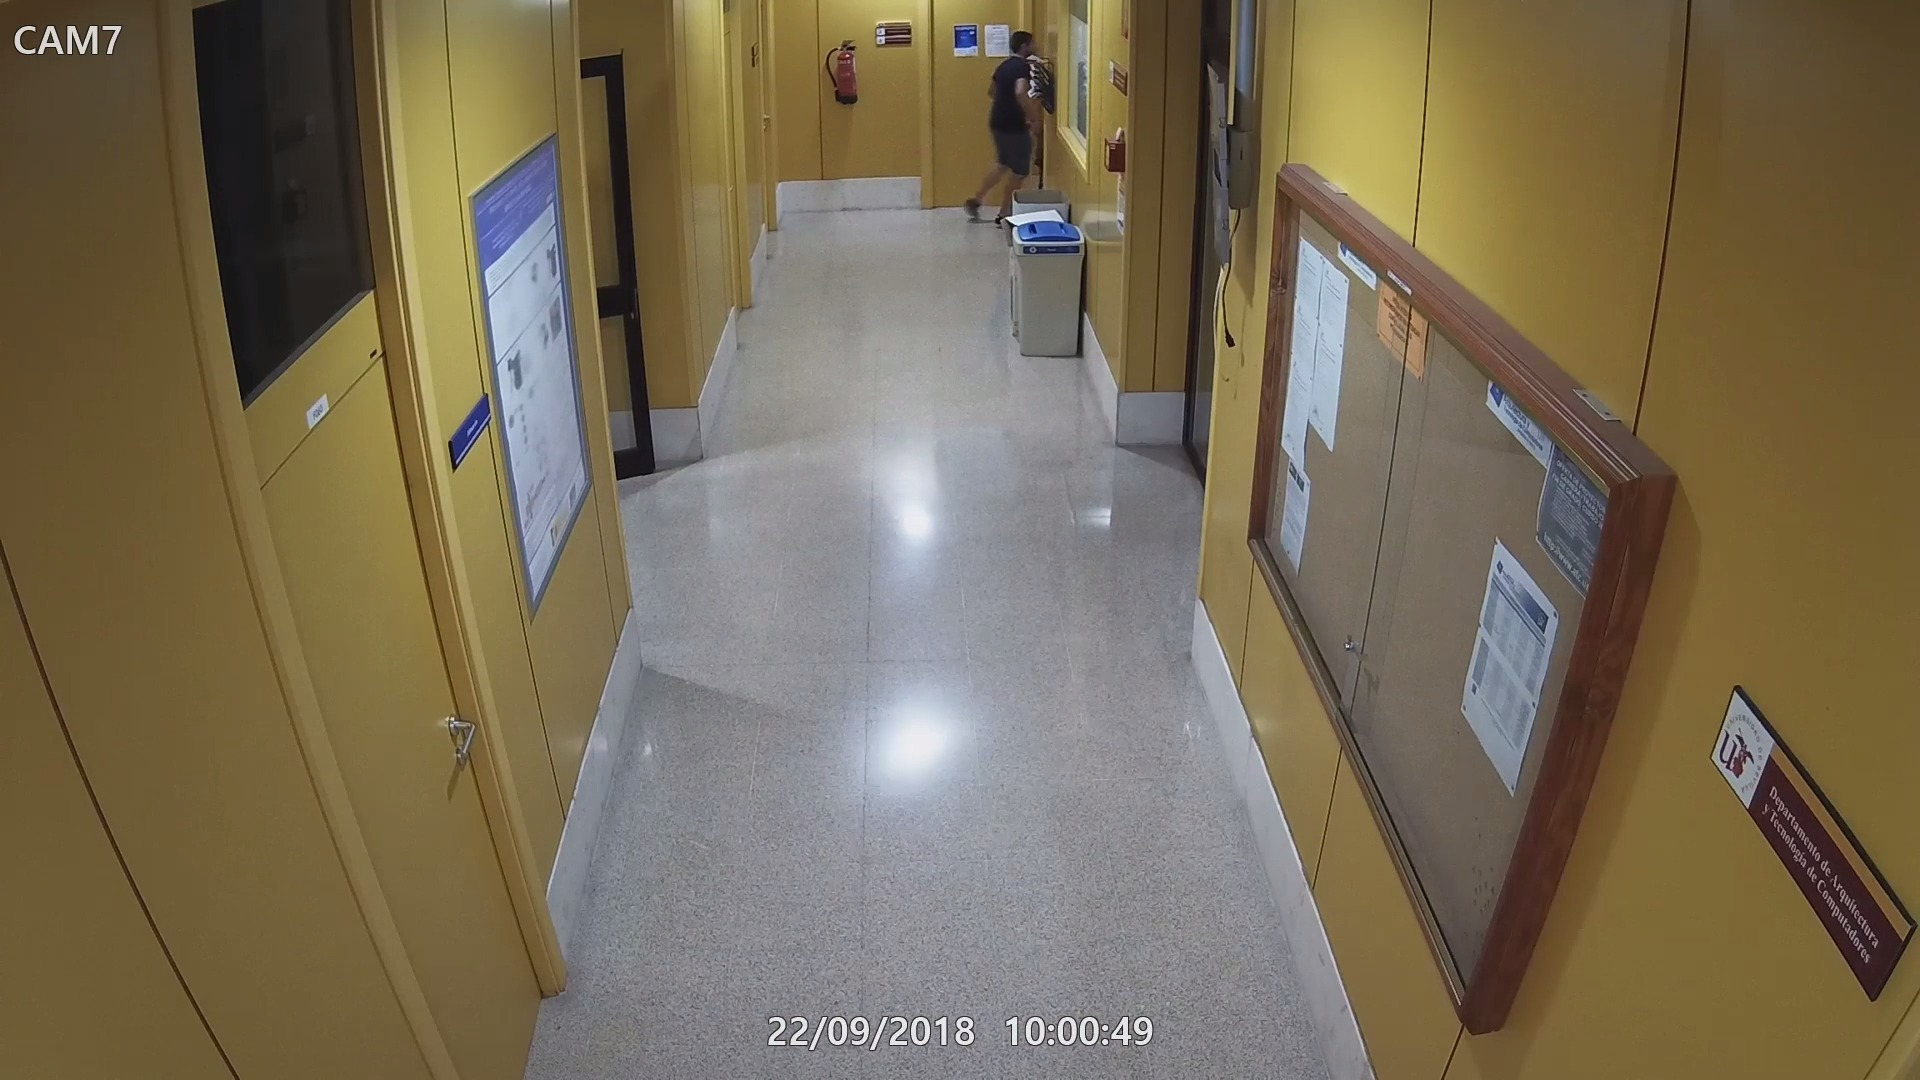Short_rifle: (1021, 109, 1044, 189)
